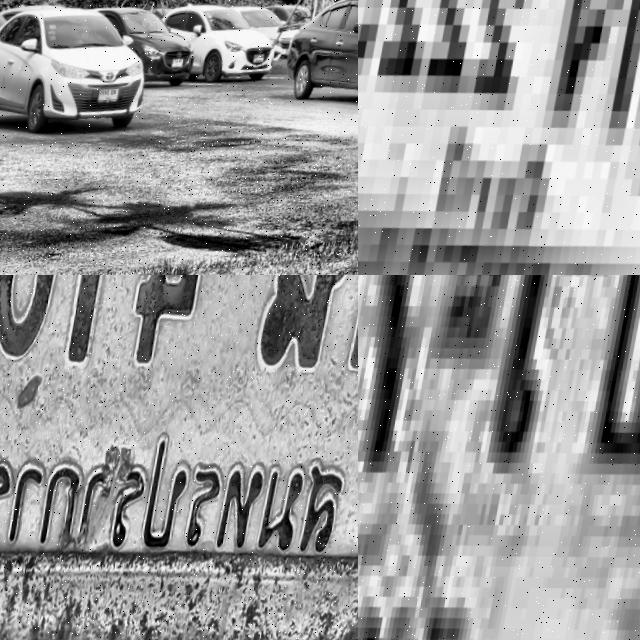license-plate: (0, 275, 358, 640), (358, 275, 640, 640), (358, 0, 640, 275), (100, 86, 124, 105), (173, 60, 187, 72), (255, 58, 268, 70)
